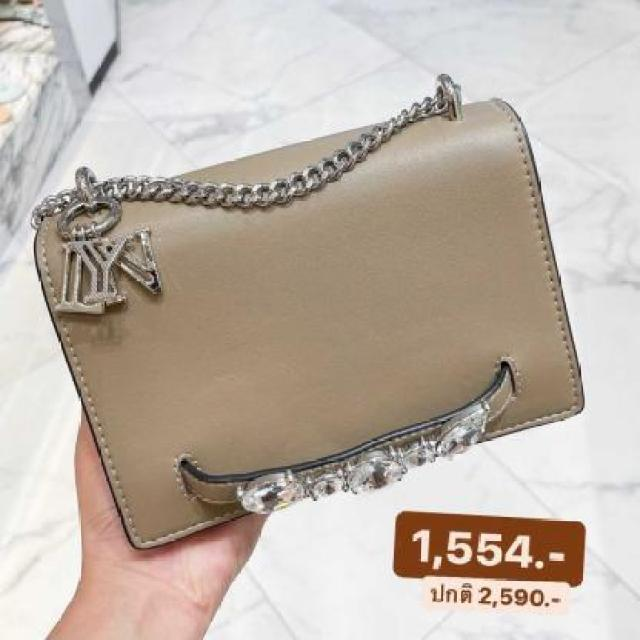Bag: (17, 40, 612, 575)
